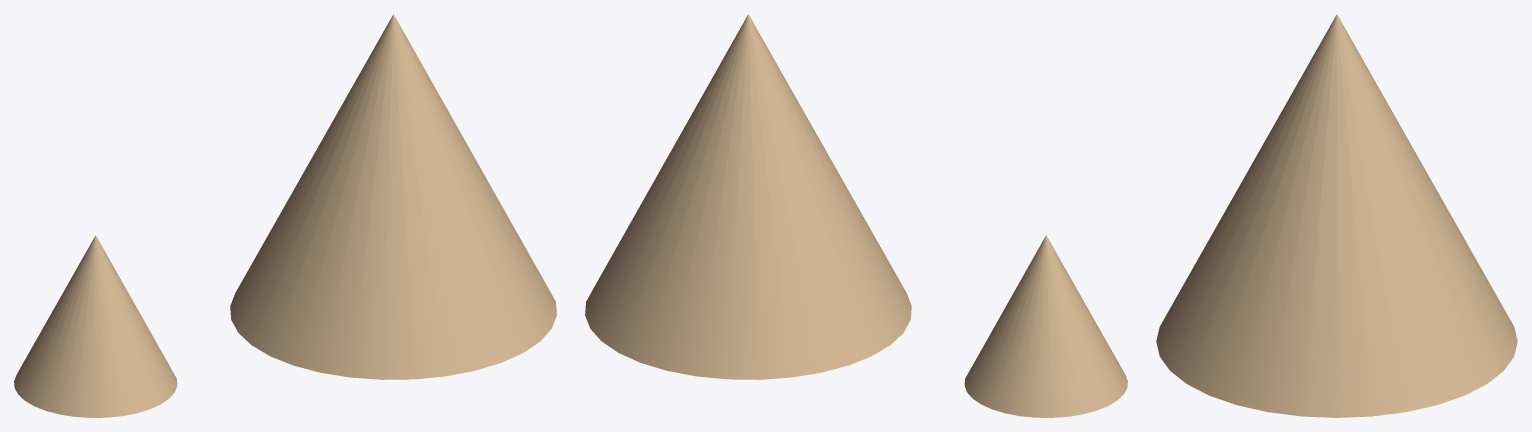
File: cones_similar.glb
3 views of the same model, side by side, from view 1: azimuth 30°, elevation 25°; view 2: azimuth 150°, elevation 25°; view 3: azimuth 270°, elevation 25° (orthographic). The views are drawn at different scales.
Visible parts, largest first — view 1: cone_large, cone_small; view 2: cone_large, cone_small; view 3: cone_large.
Part boxes in pixels (<box>): cone_large: <box>230,14,556,379</box>; cone_small: <box>14,235,177,417</box>; cone_large: <box>585,14,911,379</box>; cone_small: <box>964,235,1127,417</box>; cone_large: <box>1156,14,1517,417</box>.
Bounding box in the file's own units: 3.6 × 2 × 2.
